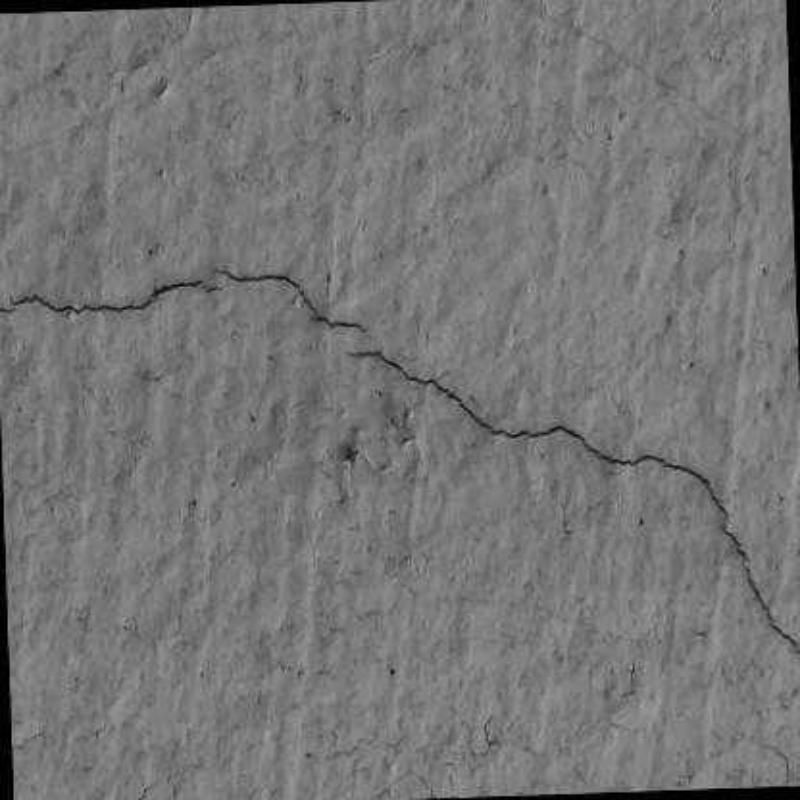crack: (349, 351, 798, 654), (211, 271, 363, 329), (0, 280, 222, 315), (483, 715, 502, 756)
